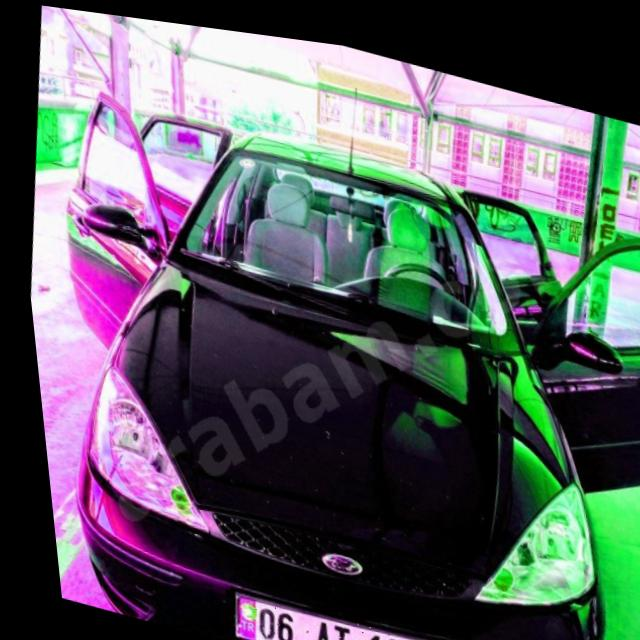license_plate: (217, 585, 434, 640)
